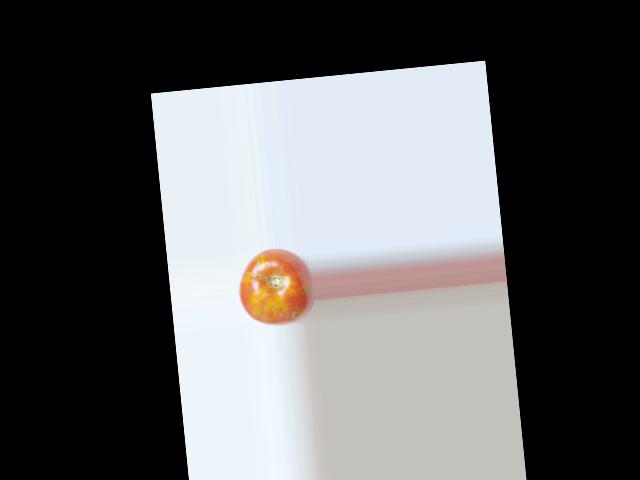tomato: (235, 245, 316, 328)
